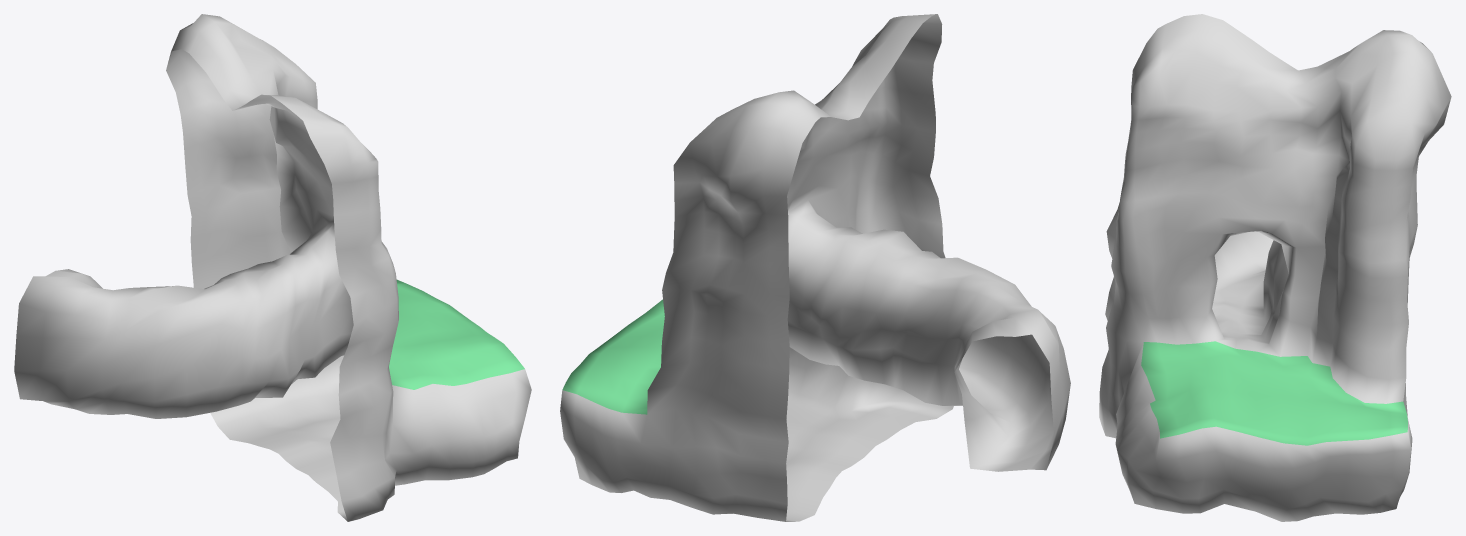
The model's file is mari_cave.glb.
3 views of the same model, side by side, from view 1: azimuth 30°, elevation 25°; view 2: azimuth 150°, elevation 25°; view 3: azimuth 270°, elevation 25° (orthographic). The views are drawn at different scales.
Visible parts, largest first — view 1: cave-col; view 2: cave-col; view 3: cave-col.
Part boxes in pixels (x1,y1,x2,y2): cave-col: [14, 14, 531, 521]; cave-col: [560, 14, 1070, 521]; cave-col: [1099, 14, 1451, 521].
Bounding box in the file's own units: 44.39 × 39.89 × 31.5.
